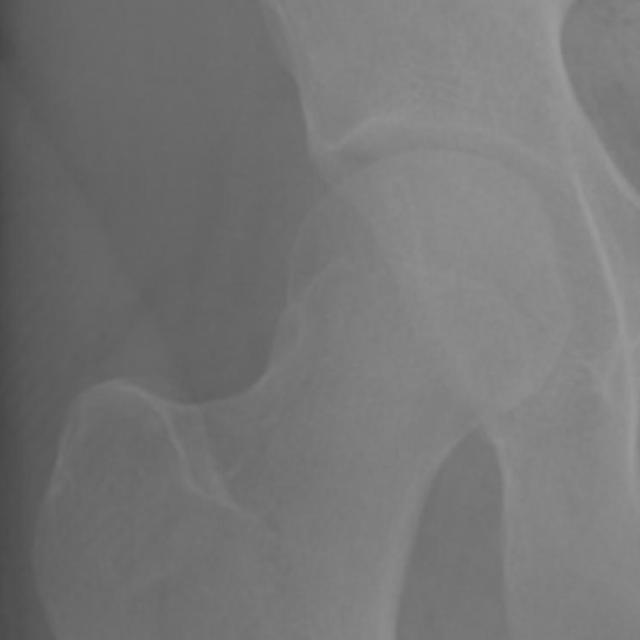Fitted_femural_head: (285, 148, 432, 285)
